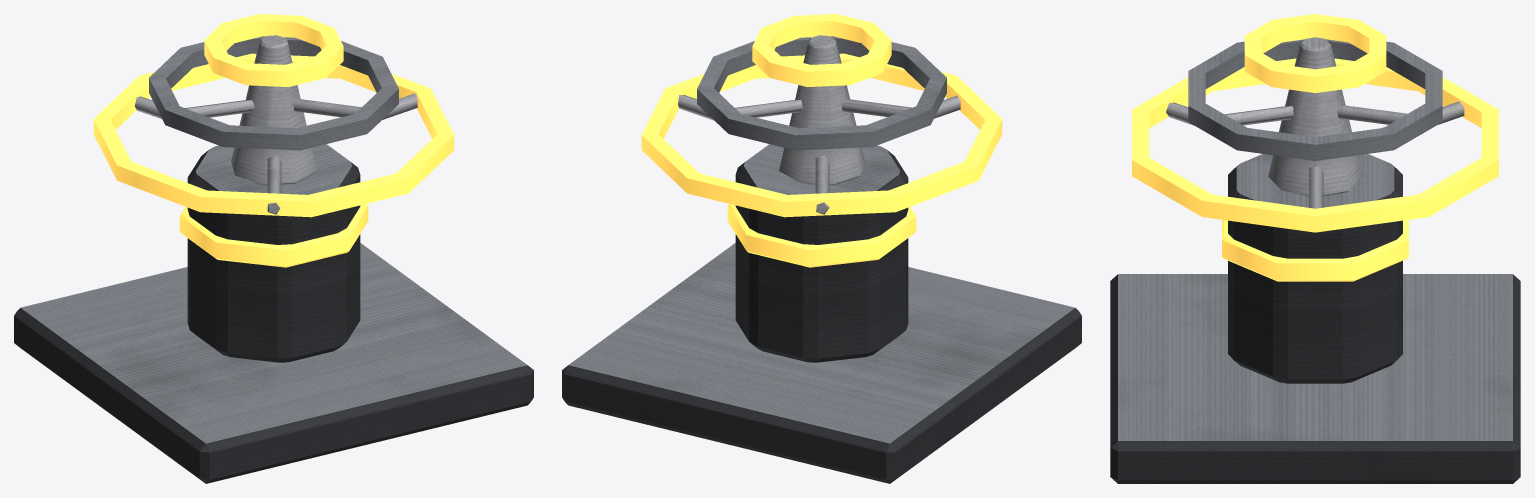
The model's file is R4X_SupportTurretDeployer_LOD1.glb.
3 views of the same model, side by side, from view 1: azimuth 30°, elevation 25°; view 2: azimuth 150°, elevation 25°; view 3: azimuth 270°, elevation 25° (orthographic). The views are drawn at different scales.
Visible parts, largest first — view 1: R4X_SupportTurretDeployer_LOD1; view 2: R4X_SupportTurretDeployer_LOD1; view 3: R4X_SupportTurretDeployer_LOD1.
Part boxes in pixels (<box>): R4X_SupportTurretDeployer_LOD1: <box>14,14,533,483</box>; R4X_SupportTurretDeployer_LOD1: <box>562,14,1081,483</box>; R4X_SupportTurretDeployer_LOD1: <box>1110,14,1520,483</box>.
Size of the model in its own units: 0.52 by 0.5 by 0.52.
Materials: 4 (3 with a texture image).
